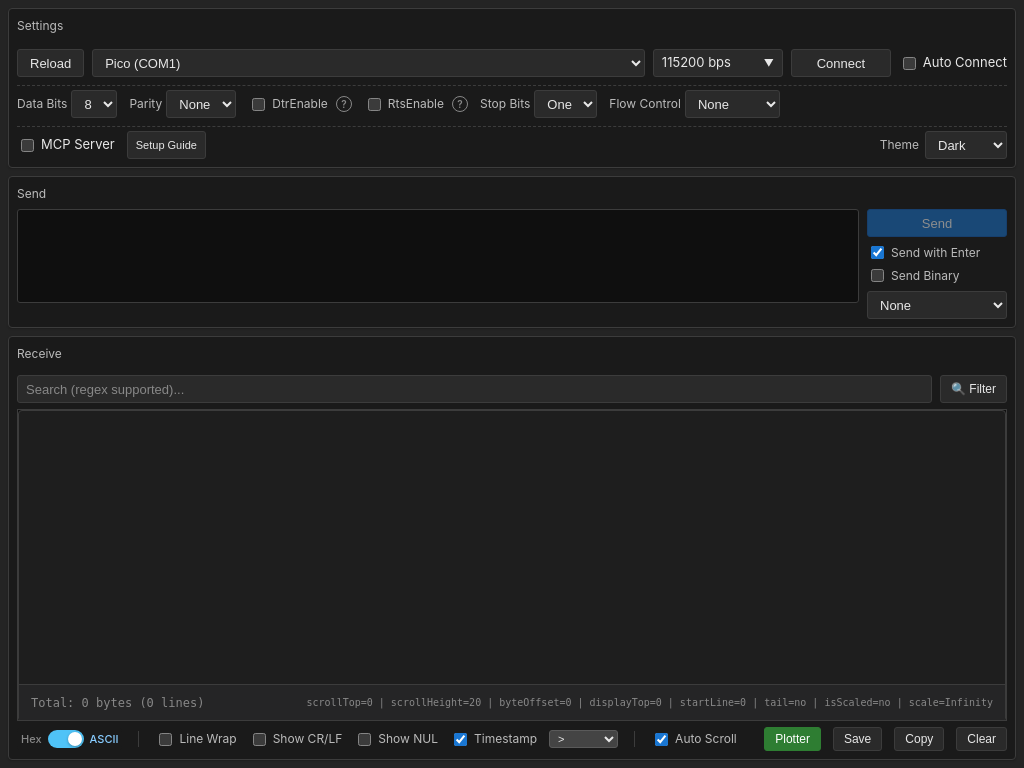
Test: App › auto connect › slows down and says so when the port is listed but cannot be opened
The image size is (1024, 768).
Click the button "Connect": (841, 63) [791,49,891,77]
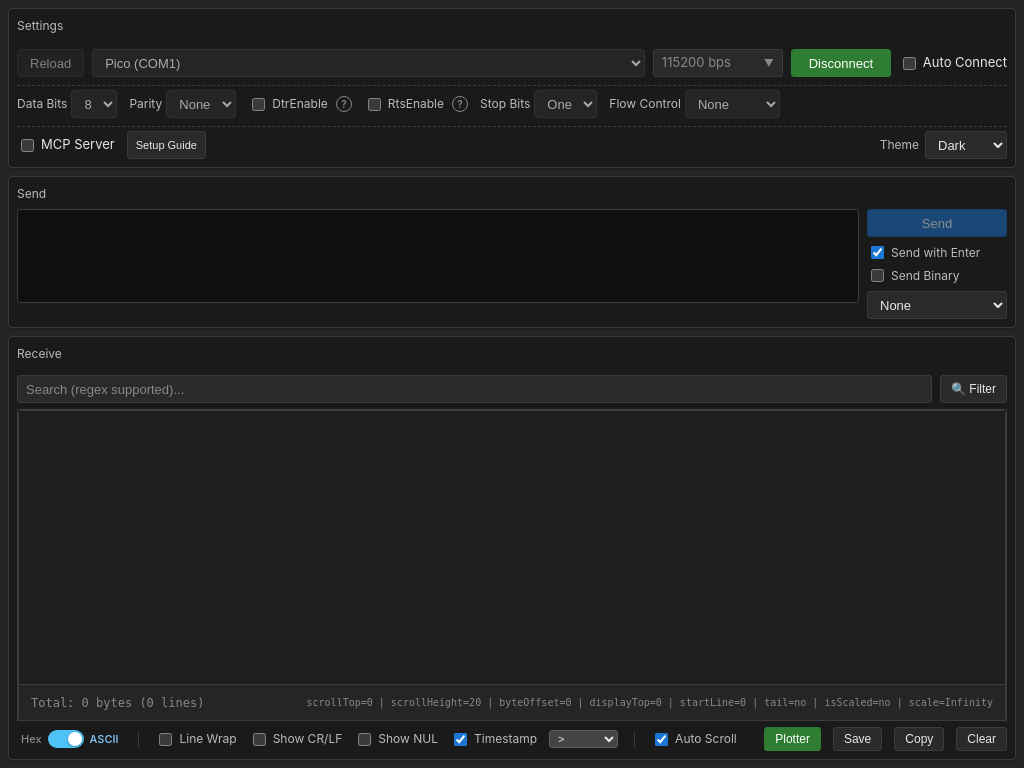
Click the checkbox labelled "Auto Connect": (909, 63) [903,56,916,70]
Wait 3200 ms
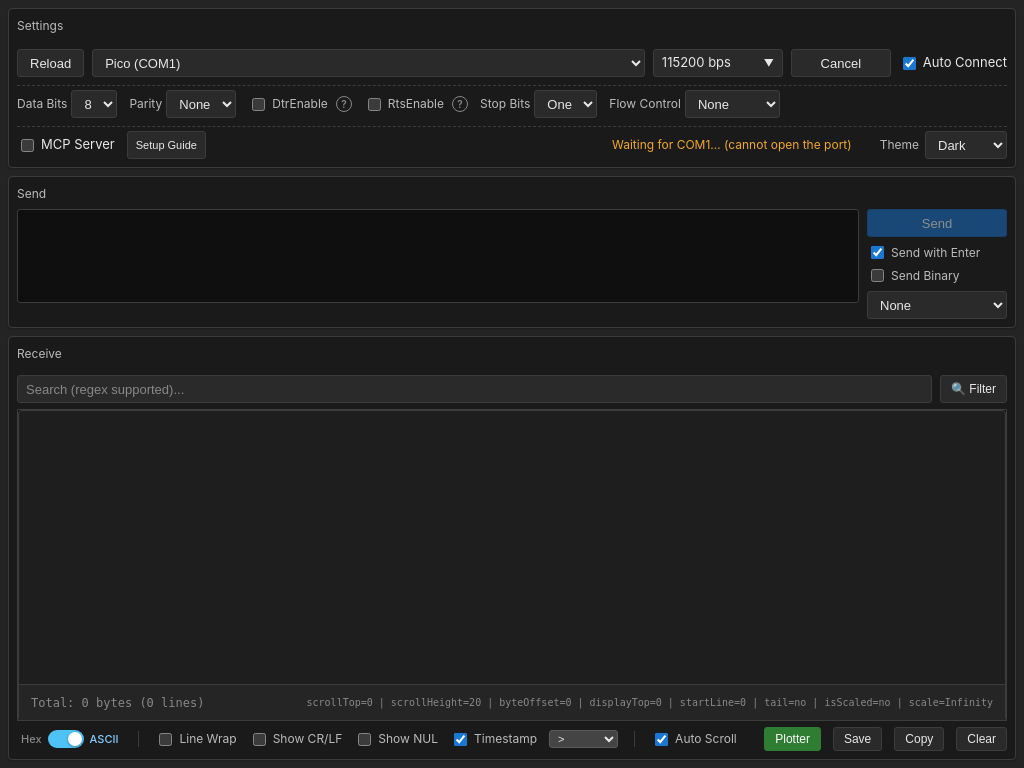
Expected: the message shows "(cannot open the port)", [721,137,852,152]
